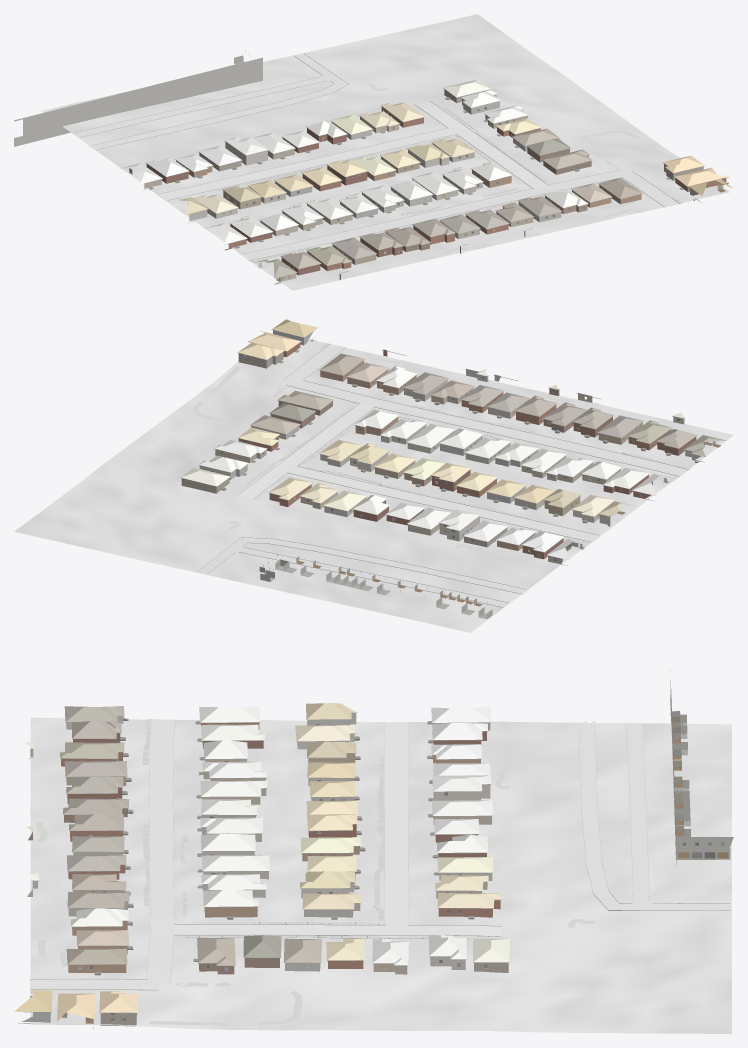
3 renders of one model, top to bottom at view 1: azimuth 30°, elevation 25°; view 2: azimuth 150°, elevation 25°; view 3: azimuth 270°, elevation 25°, orthographic. The views are drawn at different scales.
Visible parts, largest first — view 1: ground, roof, concrete, wall, wall_com, curb, detail, wall_stucco, walk, wall_stone; view 2: ground, roof, concrete, wall, detail, wall_stucco, curb, walk, room, wall_stone; view 3: ground, roof, concrete, wall, detail, walk, wall_stucco, curb, room, wall_stone, wall_com.
Part boxes in pixels (<box>): ground: <box>41,14,729,290</box>; roof: <box>120,79,732,278</box>; concrete: <box>74,53,679,260</box>; wall: <box>143,89,728,275</box>; wall_com: <box>14,57,262,146</box>; curb: <box>73,53,679,261</box>; detail: <box>134,50,729,279</box>; wall_stucco: <box>207,116,701,279</box>; walk: <box>191,84,683,261</box>; wall_stone: <box>189,94,527,284</box>; ground: <box>14,339,733,632</box>; roof: <box>181,319,726,560</box>; concrete: <box>197,344,688,607</box>; wall: <box>181,343,696,565</box>; detail: <box>180,329,719,612</box>; wall_stucco: <box>273,330,684,541</box>; curb: <box>196,344,689,607</box>; walk: <box>193,343,690,552</box>; room: <box>259,362,720,619</box>; wall_stone: <box>199,369,704,526</box>; ground: <box>30,717,731,1033</box>; roof: <box>14,703,509,1021</box>; concrete: <box>30,719,730,989</box>; wall: <box>28,722,508,1028</box>; detail: <box>24,711,727,1021</box>; walk: <box>30,719,595,1026</box>; wall_stucco: <box>18,734,490,1023</box>; curb: <box>30,719,730,992</box>; room: <box>61,711,690,1023</box>; wall_stone: <box>27,713,492,971</box>; wall_com: <box>670,670,733,864</box>.
Size of the model in its own units: 283 by 15.55 by 257.
